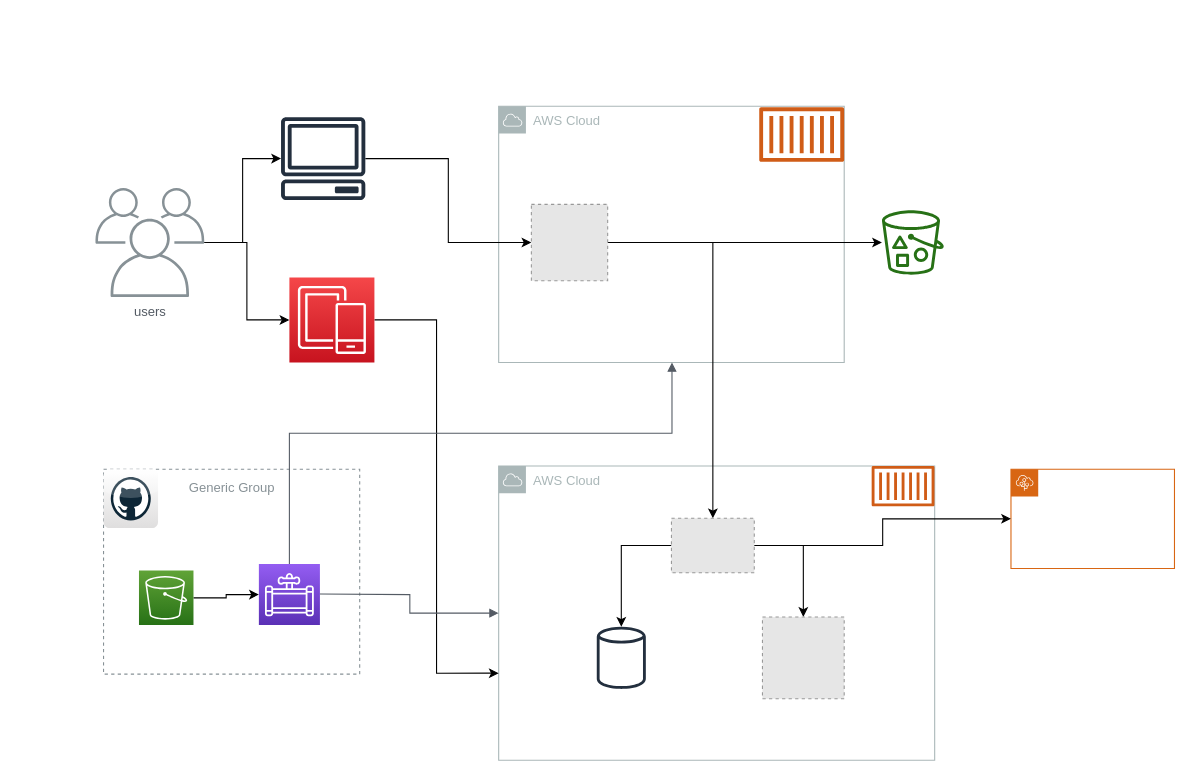
Image size: 1194x779. Some labels were removed from this diagram. Grey dashed boxes stand in for pictures. Each missing label, with the centre of its shape:
"Elastic Beanstalk container" belongs at [1092,518].
"S3 Bucket" belongs at [912,242].
